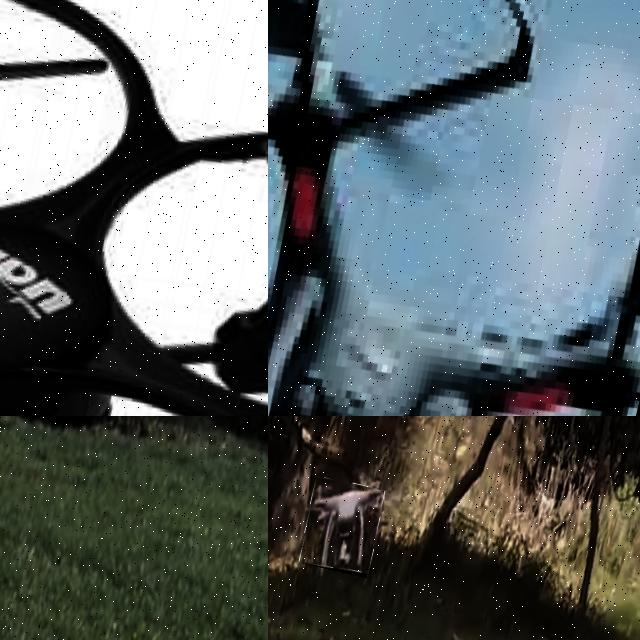0: (297, 475, 386, 578)
drone: (268, 0, 640, 416), (0, 0, 268, 416)
